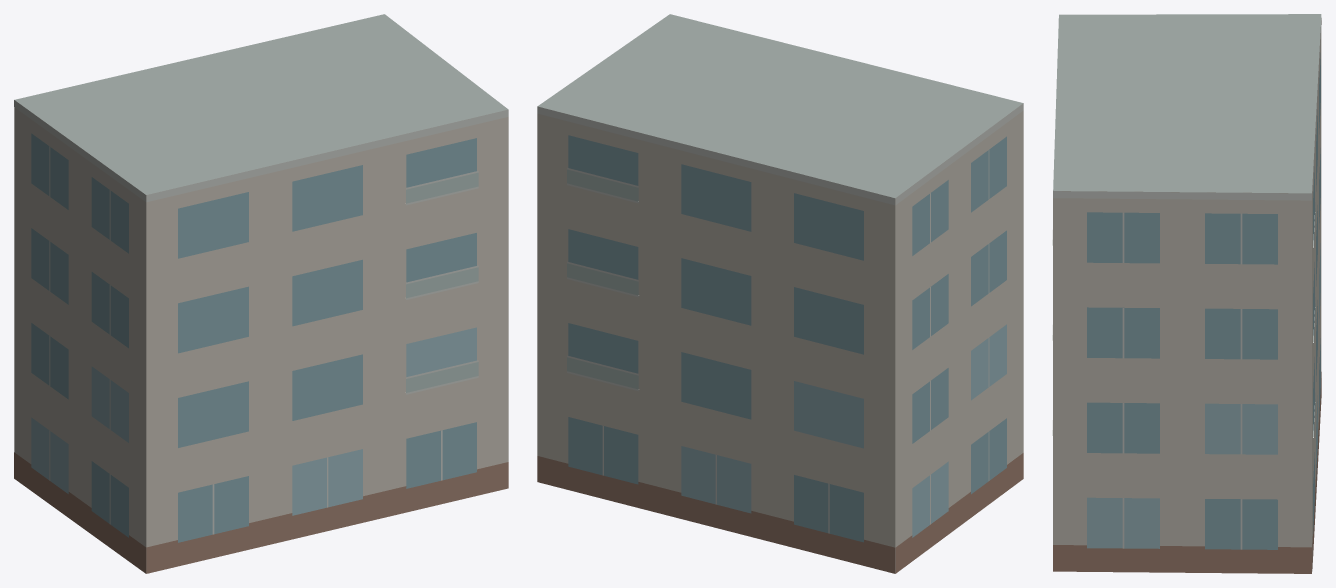
Rendered from survey-upis-32654045.glb.
3 views of the same model, side by side, from view 1: azimuth 30°, elevation 25°; view 2: azimuth 150°, elevation 25°; view 3: azimuth 270°, elevation 25° (orthographic).
Parts seen in each view (by area): view 1: survey-upis-32654045.tmp; view 2: survey-upis-32654045.tmp; view 3: survey-upis-32654045.tmp.
Part boxes in pixels (x1=…): survey-upis-32654045.tmp: x1=14, y1=14, x2=508, y2=573; survey-upis-32654045.tmp: x1=537, y1=14, x2=1023, y2=573; survey-upis-32654045.tmp: x1=1052, y1=14, x2=1321, y2=573.
Size of the model in its own units: 12.95 by 12.8 by 8.21.
